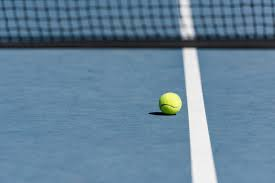tennis_ball: (158, 92, 181, 115)
